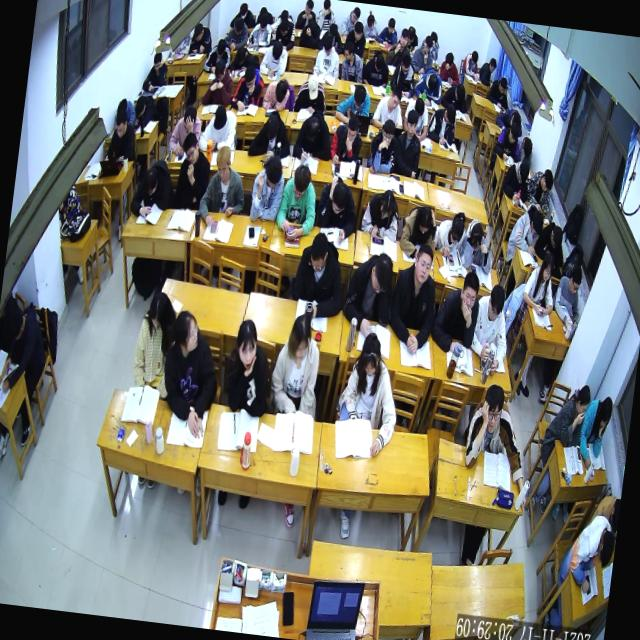bow: (128, 156, 178, 221), (247, 104, 294, 160), (457, 217, 496, 274), (334, 80, 374, 126), (533, 217, 569, 262), (411, 66, 445, 106), (260, 74, 292, 110), (438, 80, 471, 114), (493, 105, 525, 136), (130, 90, 156, 128), (228, 45, 256, 78), (297, 16, 323, 48)
down: (286, 312, 314, 362), (367, 250, 395, 296), (358, 330, 382, 378), (0, 305, 25, 344), (307, 230, 330, 272), (146, 290, 168, 331), (290, 163, 312, 200), (486, 284, 506, 324), (595, 528, 616, 566), (263, 154, 284, 191), (212, 144, 232, 182), (329, 180, 348, 214), (181, 130, 200, 164), (574, 382, 592, 417), (140, 166, 160, 197), (378, 186, 396, 219), (597, 396, 612, 431), (263, 112, 280, 142), (448, 216, 465, 246), (468, 222, 484, 252), (416, 204, 432, 234), (568, 265, 584, 295), (528, 207, 544, 237), (114, 107, 129, 137), (352, 82, 368, 110), (548, 224, 564, 252), (303, 116, 320, 142), (182, 102, 198, 129), (212, 104, 228, 131), (242, 62, 257, 90), (346, 112, 360, 141), (387, 85, 402, 111), (306, 74, 320, 100), (540, 168, 554, 194), (273, 79, 288, 103), (213, 58, 227, 82), (443, 103, 457, 126), (520, 136, 534, 159), (516, 160, 530, 182), (270, 40, 284, 61), (398, 53, 411, 74), (413, 95, 426, 116), (322, 34, 334, 56), (372, 52, 384, 74), (453, 82, 466, 102), (135, 93, 147, 114), (421, 33, 433, 54), (508, 122, 520, 143), (192, 22, 204, 42), (215, 36, 227, 56), (234, 46, 246, 66), (257, 12, 269, 32), (426, 70, 438, 90), (508, 111, 522, 128), (348, 5, 361, 22), (233, 16, 244, 36), (352, 20, 363, 40), (278, 18, 290, 36), (152, 51, 162, 72), (498, 75, 508, 95), (444, 50, 455, 68), (238, 1, 249, 18), (328, 20, 338, 38), (406, 26, 416, 44), (365, 14, 375, 31), (488, 55, 498, 72), (306, 18, 316, 34), (386, 18, 396, 34), (325, 229, 336, 243), (303, 0, 313, 15), (470, 50, 479, 66), (322, 0, 331, 15)
lookup: (233, 316, 260, 371), (480, 382, 506, 434), (412, 242, 435, 286), (458, 270, 480, 314), (379, 116, 396, 146), (404, 108, 419, 138), (540, 252, 554, 281), (398, 26, 409, 46)
sit: (330, 328, 406, 459), (156, 306, 226, 438), (461, 381, 534, 488), (267, 308, 327, 418), (387, 238, 442, 354), (218, 313, 278, 418), (286, 228, 349, 322), (129, 287, 180, 399), (340, 248, 400, 342), (427, 266, 482, 355), (0, 301, 49, 398), (197, 141, 251, 226), (557, 509, 617, 584), (468, 280, 514, 376), (272, 160, 322, 242), (171, 130, 214, 212), (312, 171, 360, 243), (541, 380, 592, 446), (248, 150, 288, 227), (576, 390, 614, 470), (396, 200, 439, 261), (290, 108, 336, 164), (519, 250, 558, 316), (359, 184, 404, 240), (392, 104, 426, 178), (197, 100, 240, 156), (506, 199, 545, 257), (550, 264, 584, 329), (166, 101, 204, 159), (366, 116, 400, 176), (200, 54, 237, 109), (328, 110, 365, 165), (230, 62, 266, 114), (106, 108, 140, 162), (432, 209, 468, 260), (291, 68, 330, 115), (371, 82, 406, 131), (400, 94, 432, 142), (426, 97, 458, 145), (524, 165, 555, 214), (312, 32, 344, 79), (388, 52, 418, 99), (492, 120, 524, 164), (500, 156, 531, 201), (257, 37, 290, 79), (141, 48, 169, 92), (384, 23, 413, 65), (361, 48, 392, 86), (338, 41, 366, 82), (202, 35, 232, 73), (268, 14, 298, 52), (410, 33, 436, 76), (186, 18, 214, 57), (246, 10, 274, 48), (342, 18, 368, 56), (485, 72, 510, 110), (437, 48, 463, 84), (228, 1, 258, 32), (318, 19, 346, 52), (224, 14, 250, 48), (374, 15, 399, 47), (338, 4, 361, 38), (459, 48, 482, 82), (293, 0, 317, 32), (477, 55, 498, 85), (315, 0, 336, 28), (515, 132, 534, 162), (361, 10, 381, 38), (404, 22, 420, 52)
